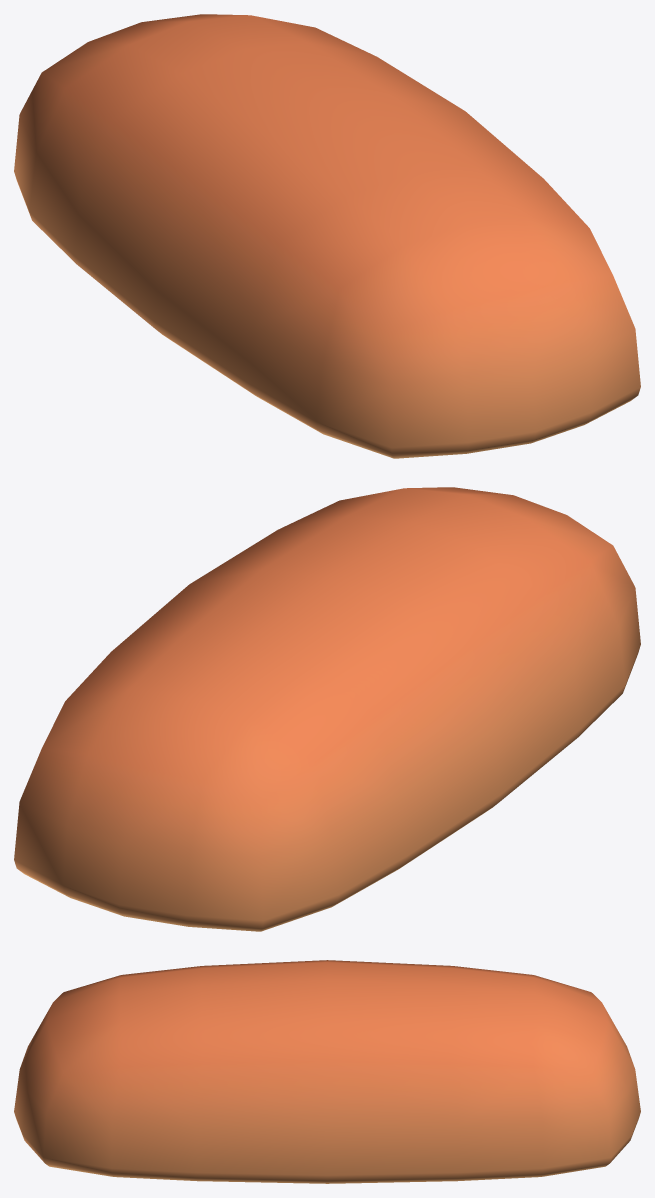
Rendered from Bread_Sandwich_Upper_V1_00.fbx.
3 renders of one model, top to bottom at view 1: azimuth 30°, elevation 25°; view 2: azimuth 150°, elevation 25°; view 3: azimuth 270°, elevation 25°, orthographic. The views are drawn at different scales.
Parts seen in each view (by area): view 1: Bread_Sandwich_Upper_V1_00; view 2: Bread_Sandwich_Upper_V1_00; view 3: Bread_Sandwich_Upper_V1_00.
Part boxes in pixels (left/top/right/bottom): Bread_Sandwich_Upper_V1_00: left=14, top=14, right=640, bottom=458; Bread_Sandwich_Upper_V1_00: left=14, top=487, right=640, bottom=931; Bread_Sandwich_Upper_V1_00: left=14, top=960, right=640, bottom=1183.
Size of the model in its own units: 36.61 by 19.4 by 76.16.
